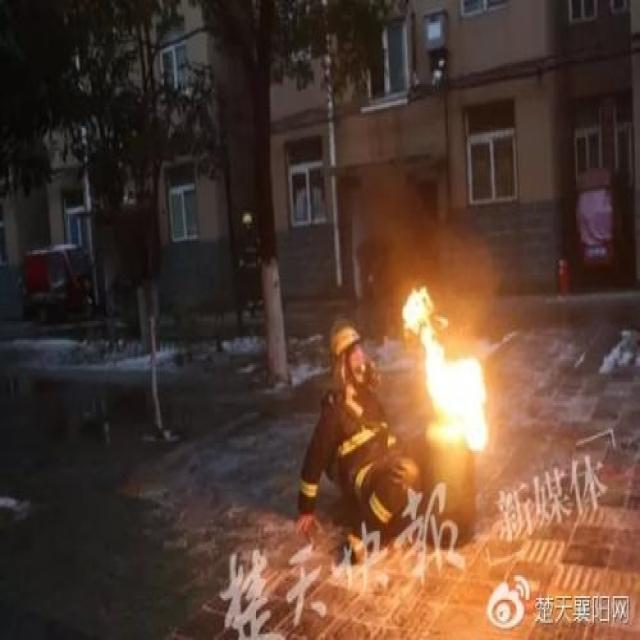Fire: (400, 286, 488, 452)
Smoke: (358, 166, 499, 359)
